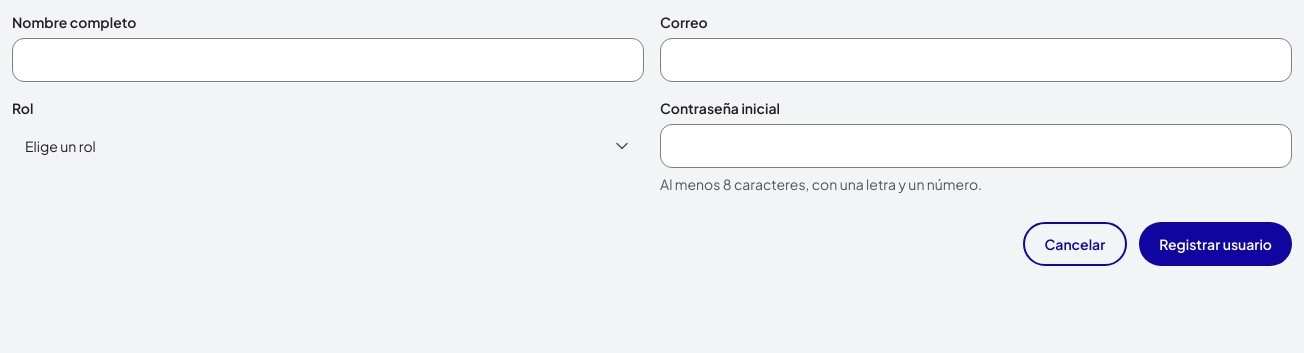
Scenario: FormularioUsuario › el error del backend se anuncia con su mensaje
The width and height of the screenshot is (1304, 353).
Type "Ana" into the field labelled "Nombre completo" at [328, 60], box left=12, top=38, right=644, bottom=82
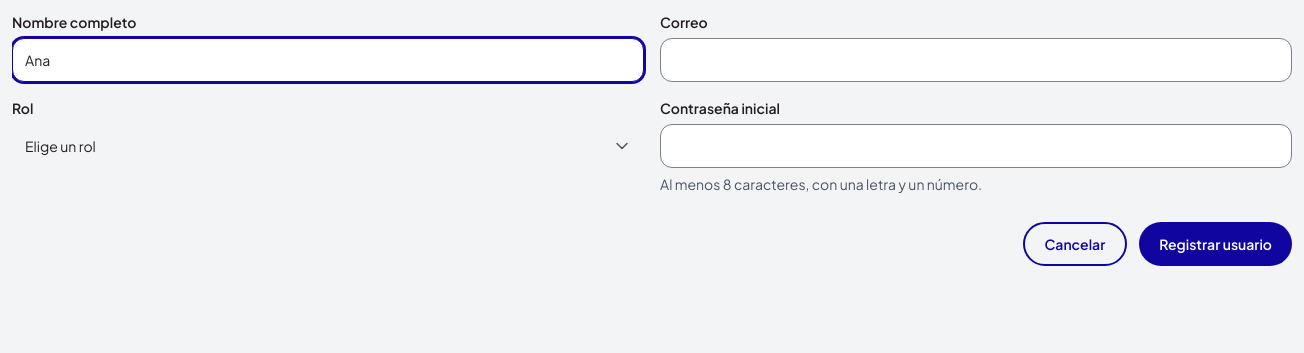
Type "ANA@muni.gt" into the field labelled "Correo" at [976, 60], box left=660, top=38, right=1292, bottom=82
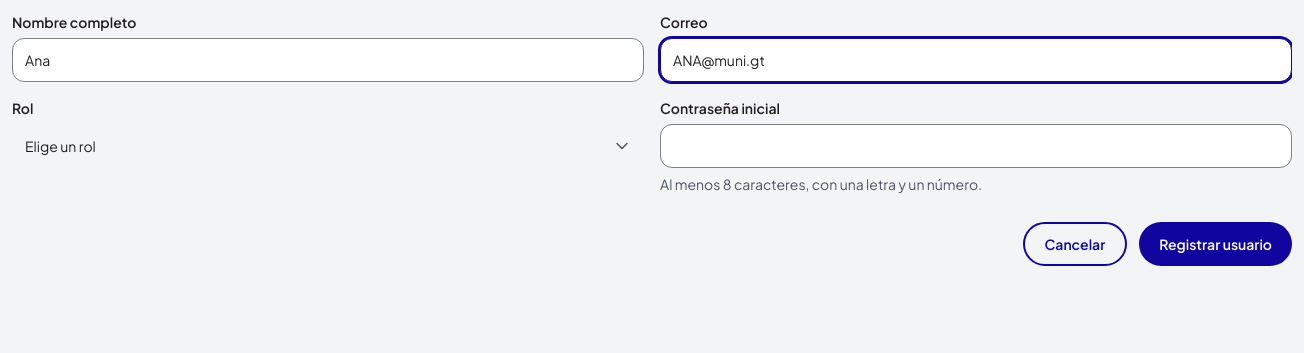
Select "Supervisor municipal" in the dropdown labelled "Rol" at [328, 146], box left=12, top=124, right=644, bottom=168
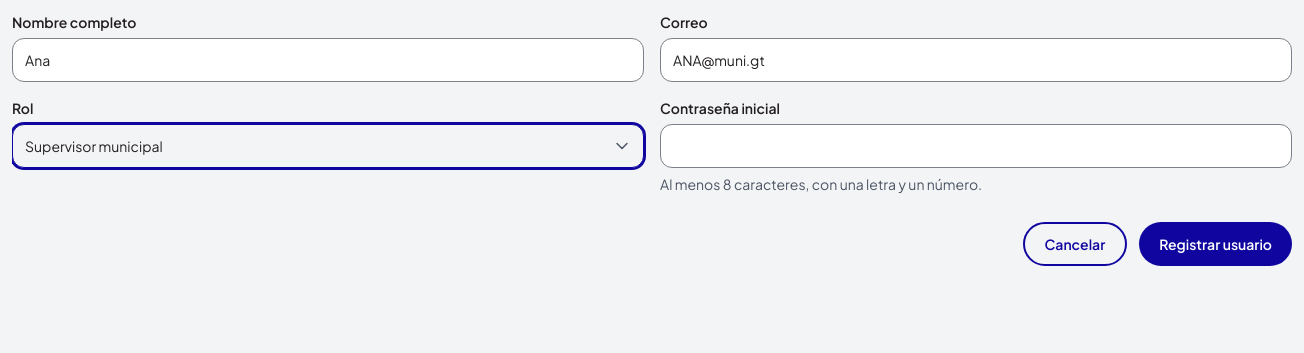
Type "clave1234" into the password field labelled "Contraseña inicial" at [976, 146], box left=660, top=124, right=1292, bottom=168
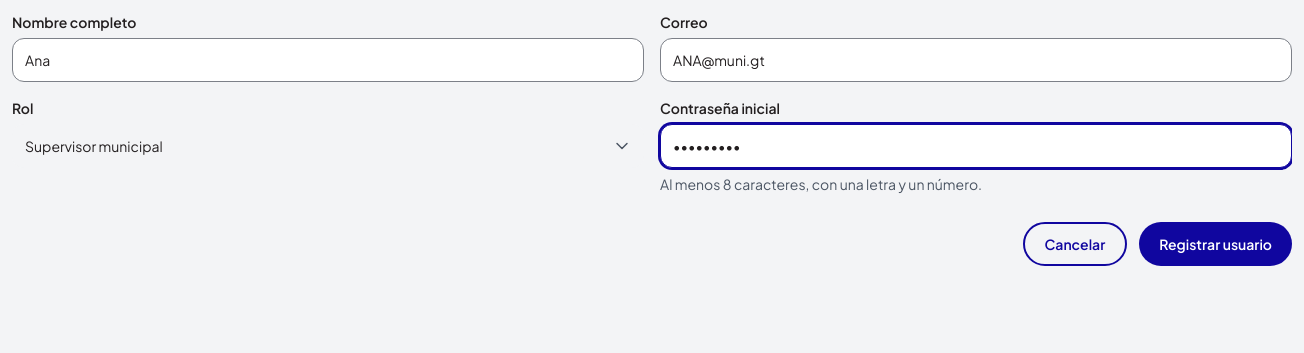
Click the button "Registrar usuario" at [1216, 244], box left=1139, top=222, right=1292, bottom=266
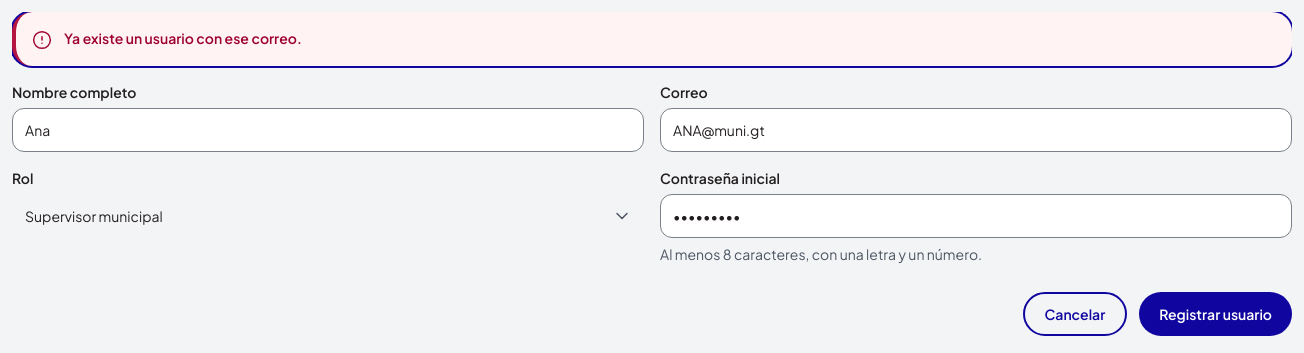
expect the message reads "Ya existe un usuario con ese correo.": met, box left=64, top=29, right=302, bottom=47
